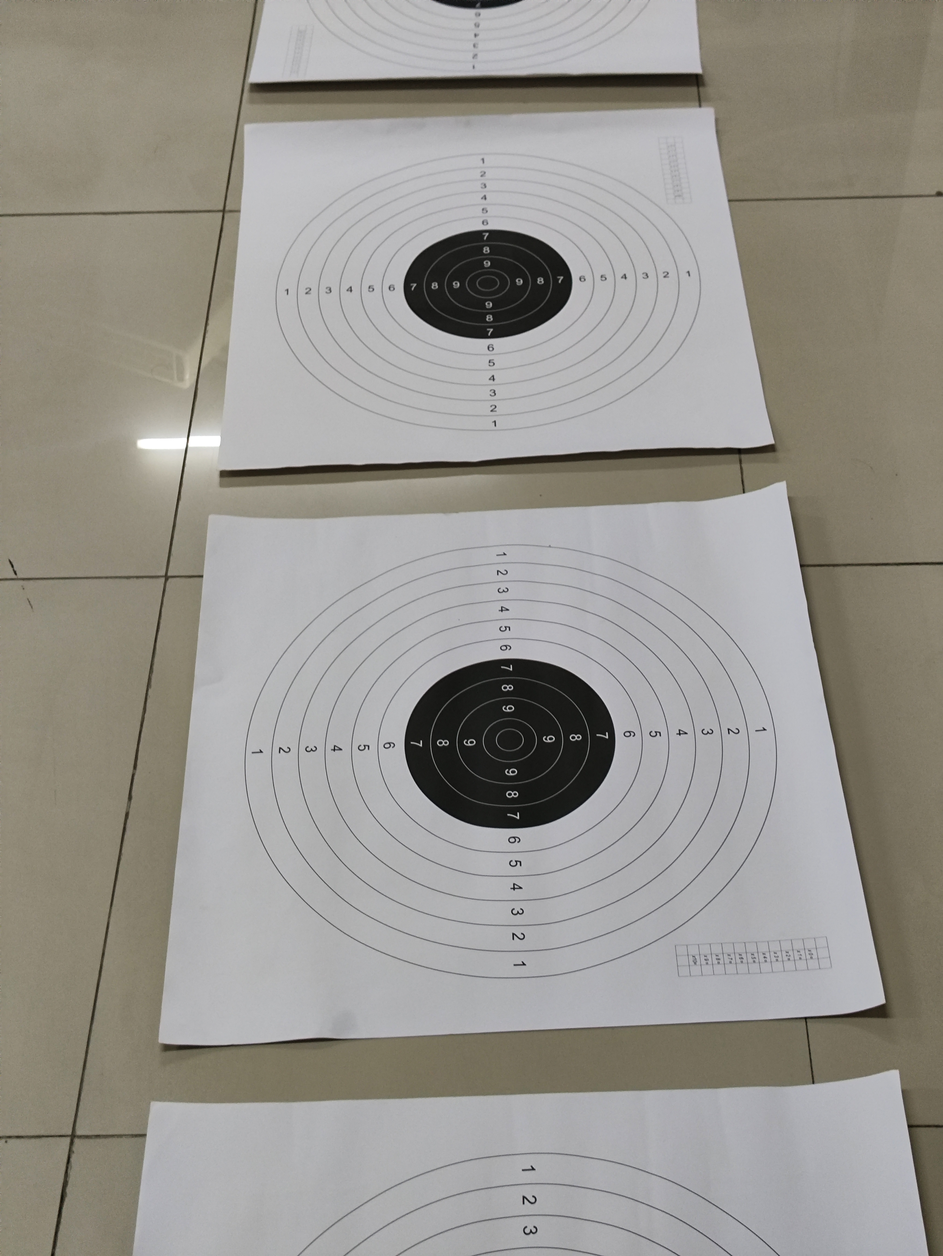target: (236, 532, 807, 1008), (255, 136, 728, 454)
